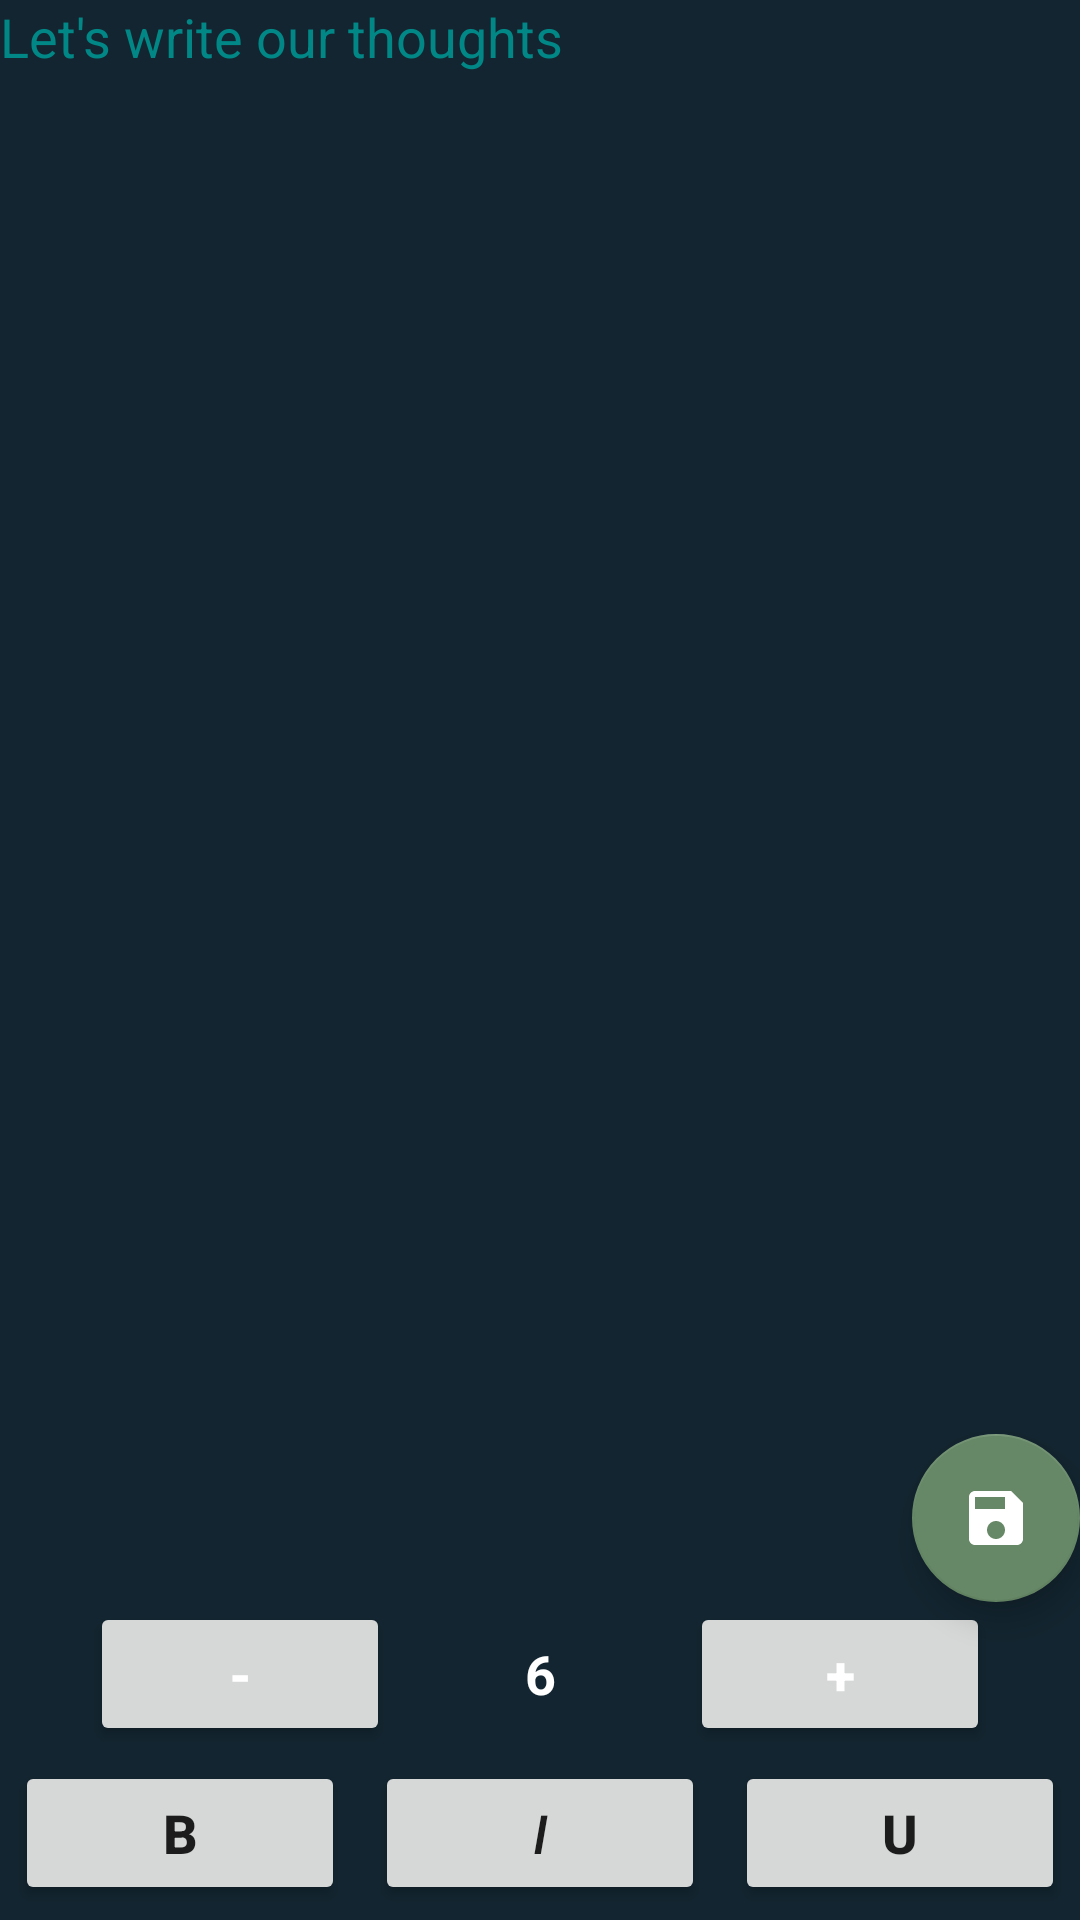

Icons on this 1080w x 1920h Android screen, each with its box as (x1=x1, y1=y1, x2=x2, y2=y2):
save: (x1=912, y1=1434, x2=1080, y2=1602)
